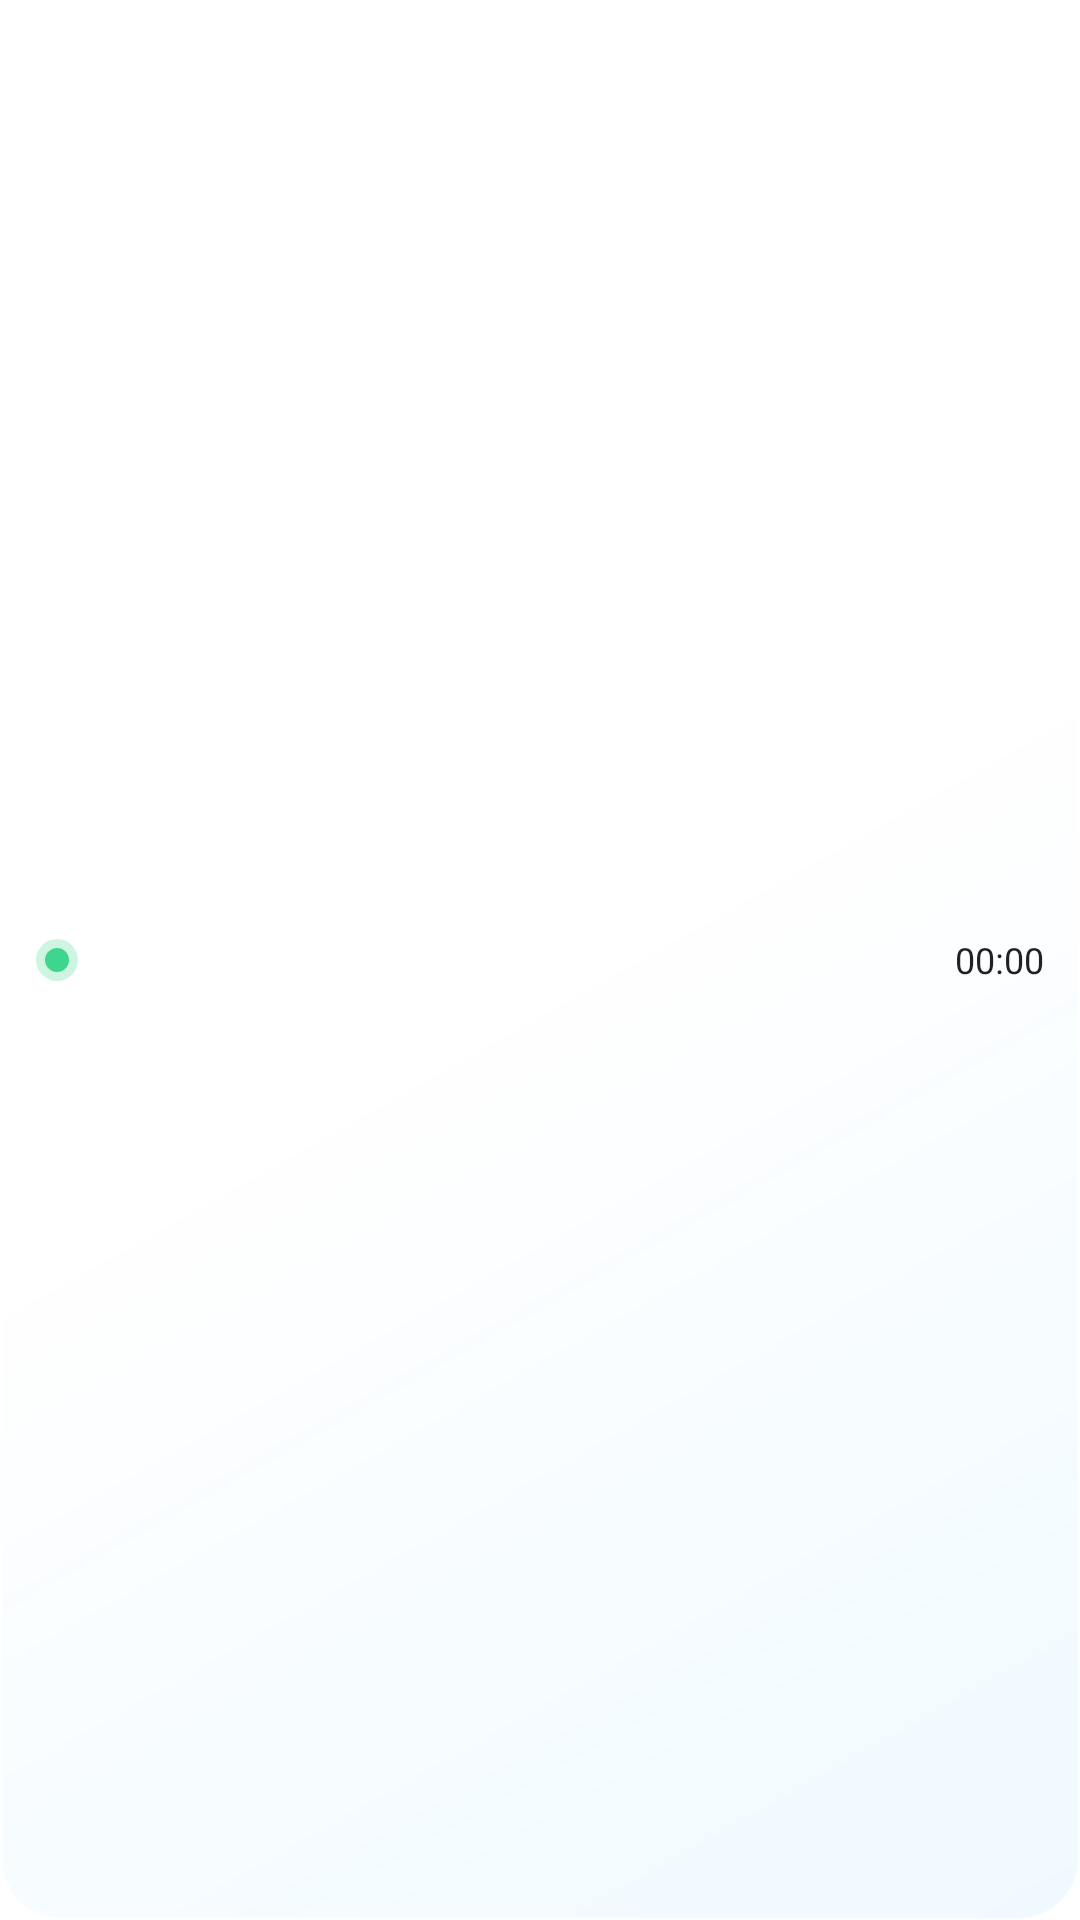

Icon click points for this 1080x1920 phone screenshot, format [x,y]:
sora dot on: [57,960]
